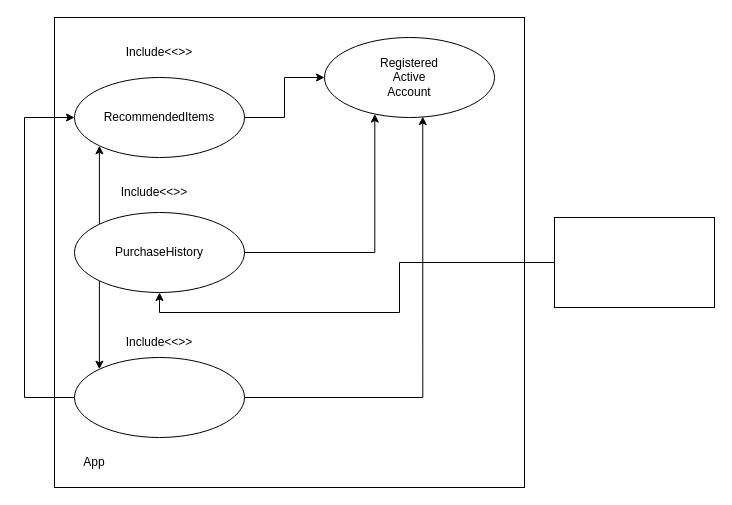
This 732x505 diagram has some shape labels left out. The shapes that lost their labels are listed below. From the top down, each one's centre as x and y in pixels, then its label:
At point 634,262: "Primary Actor: Shopper".
At point 159,397: "RecommendationAlgorithm".
